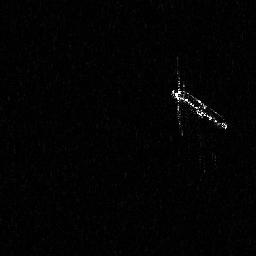ship: (169, 54, 230, 140)
